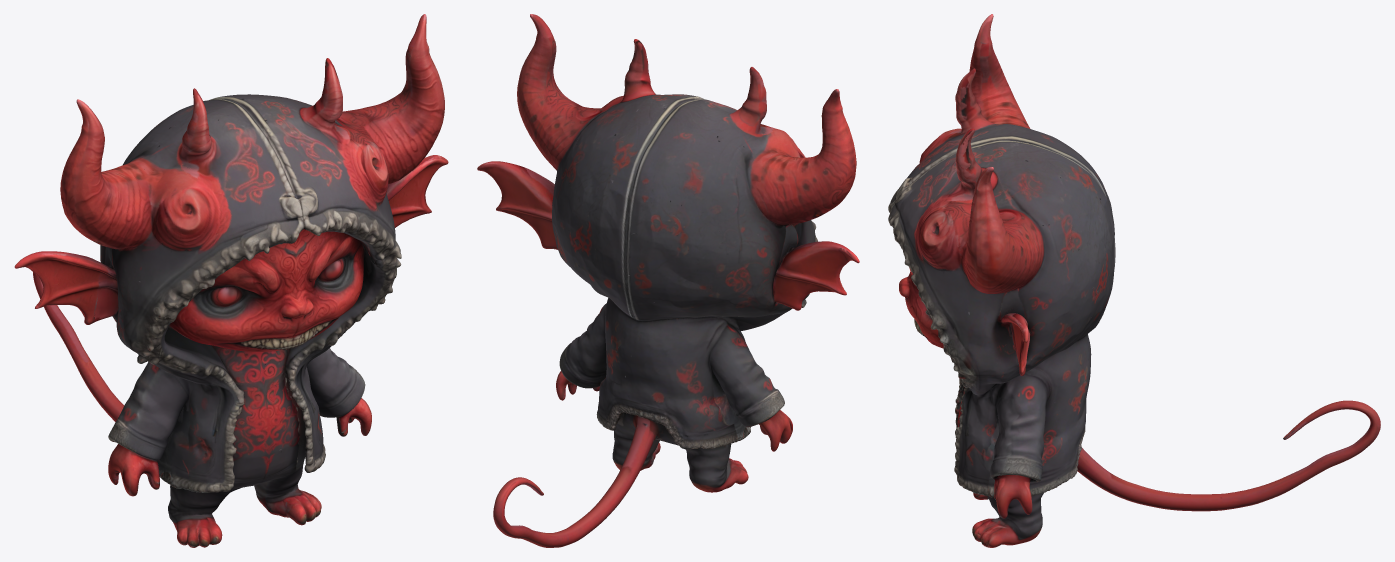
Rendered from Xạ Thủ Quỷ Lùn (Bắn cầu năng lượng).glb.
3 views of the same model, side by side, from view 1: azimuth 30°, elevation 25°; view 2: azimuth 150°, elevation 25°; view 3: azimuth 270°, elevation 25° (orthographic). The views are drawn at different scales.
Size of the model in its own units: 1.84 by 1.93 by 2.
1 material, 1 textured.
